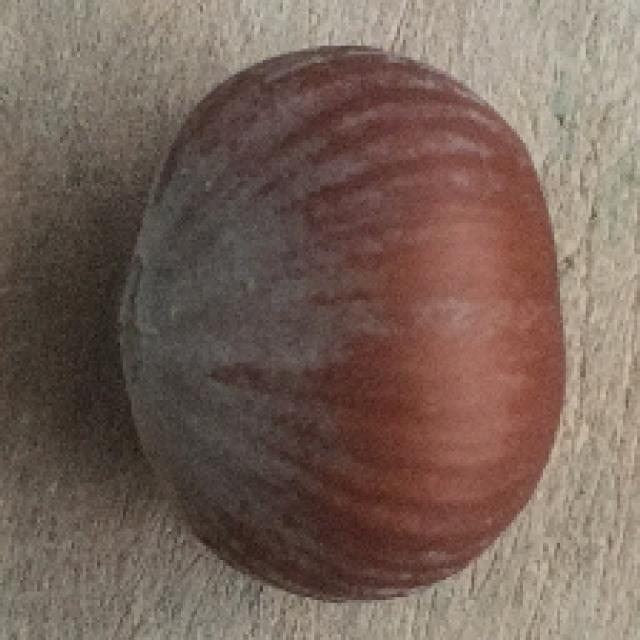QualityHazelnut: (117, 46, 570, 605)
